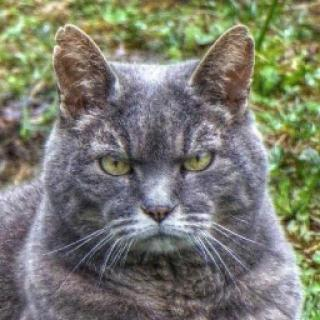cat: (51, 23, 259, 266)
nose: (133, 176, 179, 224)
